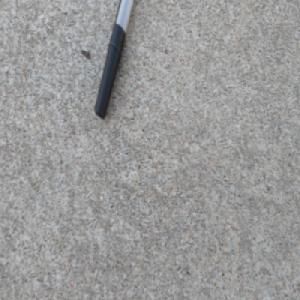Pen: (93, 0, 137, 123)
